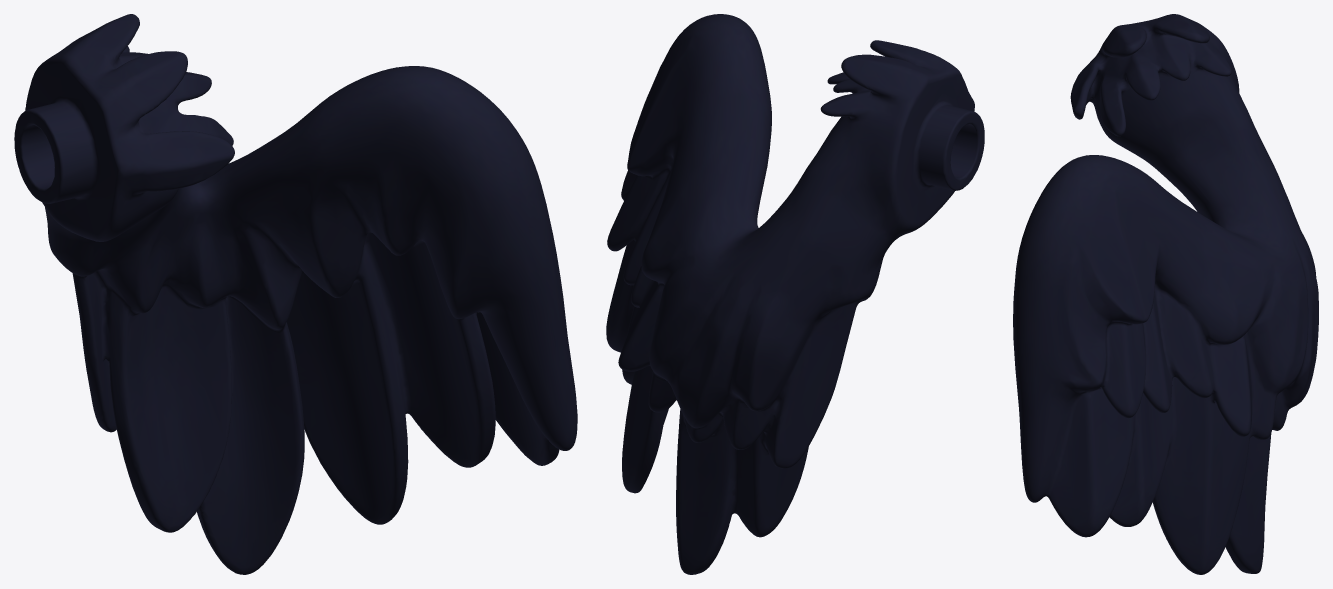
Rendered from Bras_Corbeau_lft.glb.
3 views of the same model, side by side, from view 1: azimuth 30°, elevation 25°; view 2: azimuth 150°, elevation 25°; view 3: azimuth 270°, elevation 25° (orthographic). The views are drawn at different scales.
Visible parts, largest first — view 1: Bras_Corbeau_lft; view 2: Bras_Corbeau_lft; view 3: Bras_Corbeau_lft.
Boxes of the visible parts, <box> form: Bras_Corbeau_lft: <box>14,14,577,574</box>; Bras_Corbeau_lft: <box>606,14,984,574</box>; Bras_Corbeau_lft: <box>1013,14,1318,574</box>.
Size of the model in its own units: 4.78 by 6.06 by 3.47.
